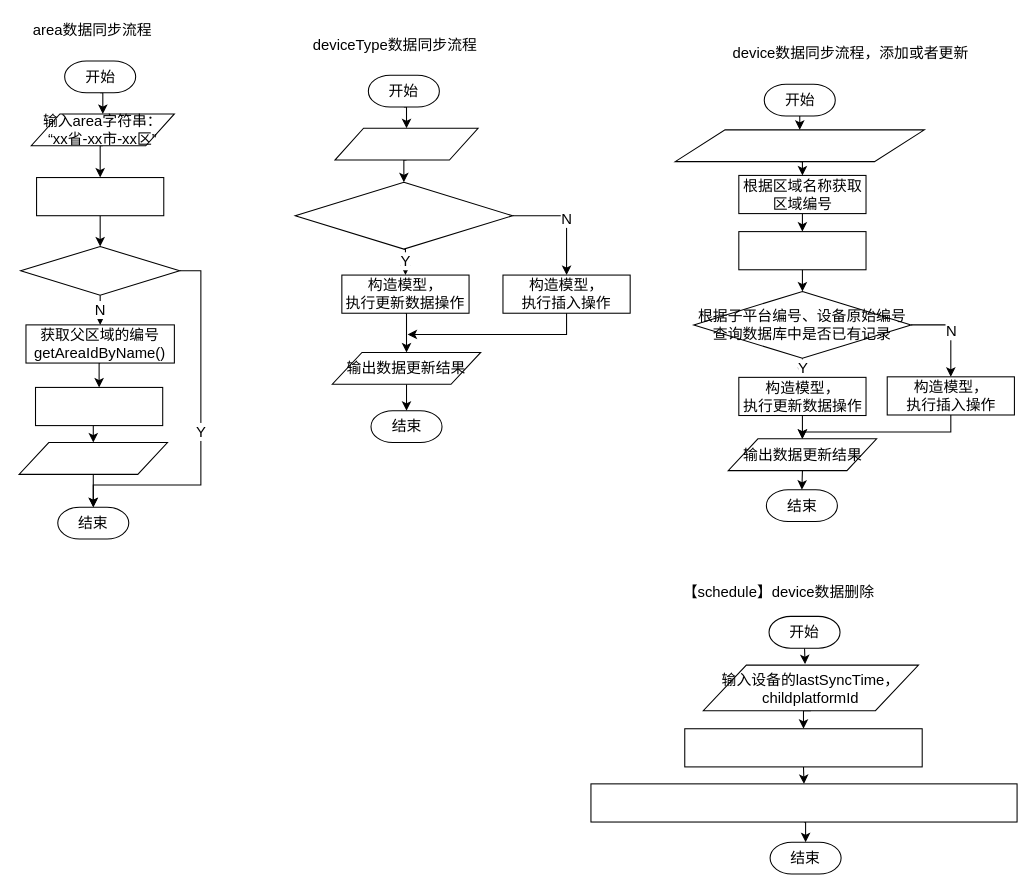
Image size: 1036x893. Some labels were removed from this diagram. The centre of each missing label's shape, as x and y in pixels:
删除数据库中，当前时间-lastSyncTime > 2*订阅周期的数据: the point at 803,802
构造模型， 插入数据库: the point at 98,406
查询对该平台设置的订阅周期: the point at 803,747
根据子平台编号、设备类型原始编号查询数据库中是否已有记录: the point at 403,215
根据设备类型名称获取设备类型编号: the point at 802,250
解析字符串， 得到区域名称: the point at 100,196
该区域名称是否 已在数据库中: the point at 100,270
输入原始编号、 设备类型名称: the point at 406,143
输入设备原始编号、设备名称、设备类型名称、设备区域、: the point at 799,145
输出插入成功: the point at 92,457
